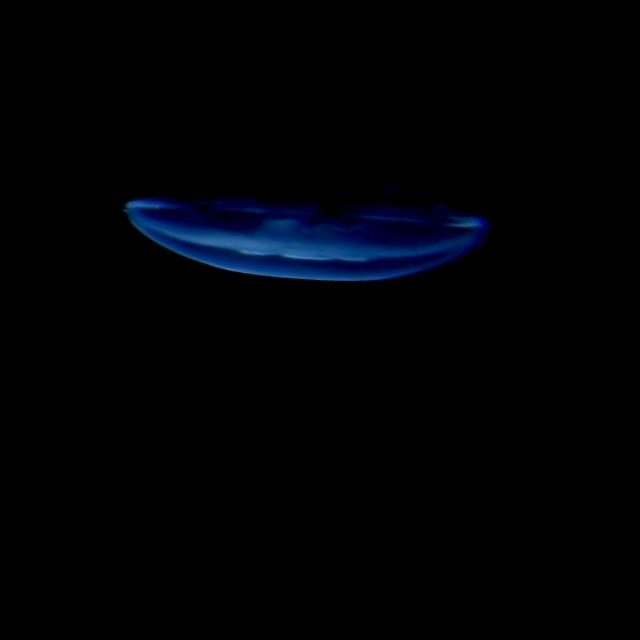Moon-jellyfish: (121, 177, 498, 290)
